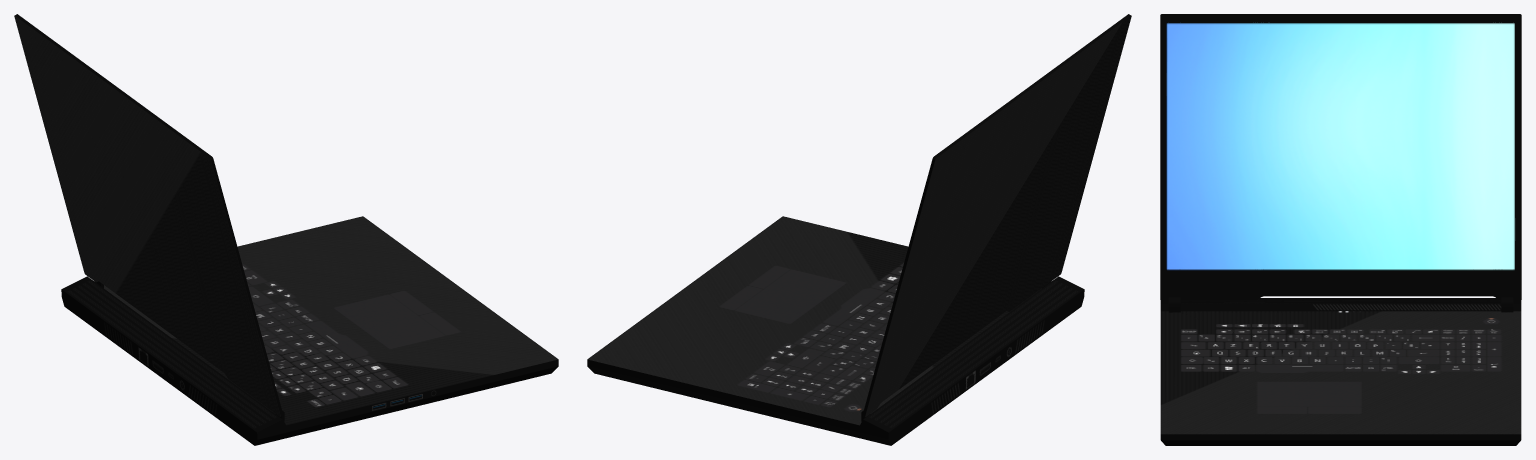
File: Low_poly_unbranded_Laptop.glb
3 renders of one model, left to right at view 1: azimuth 30°, elevation 25°; view 2: azimuth 150°, elevation 25°; view 3: azimuth 270°, elevation 25°, orthographic. The views are drawn at different scales.
Visible parts, largest first — view 1: unnamed (×2); view 2: unnamed (×2); view 3: unnamed (×2).
Boxes of the visible parts, left/top/right/bottom form: unnamed (×2): left=14, top=14, right=558, bottom=445; unnamed (×2): left=587, top=14, right=1131, bottom=445; unnamed (×2): left=1160, top=14, right=1521, bottom=445.
Bounding box in the file's own units: 0.4161 × 0.3441 × 0.4056.
Materials: 2 (2 with a texture image).
